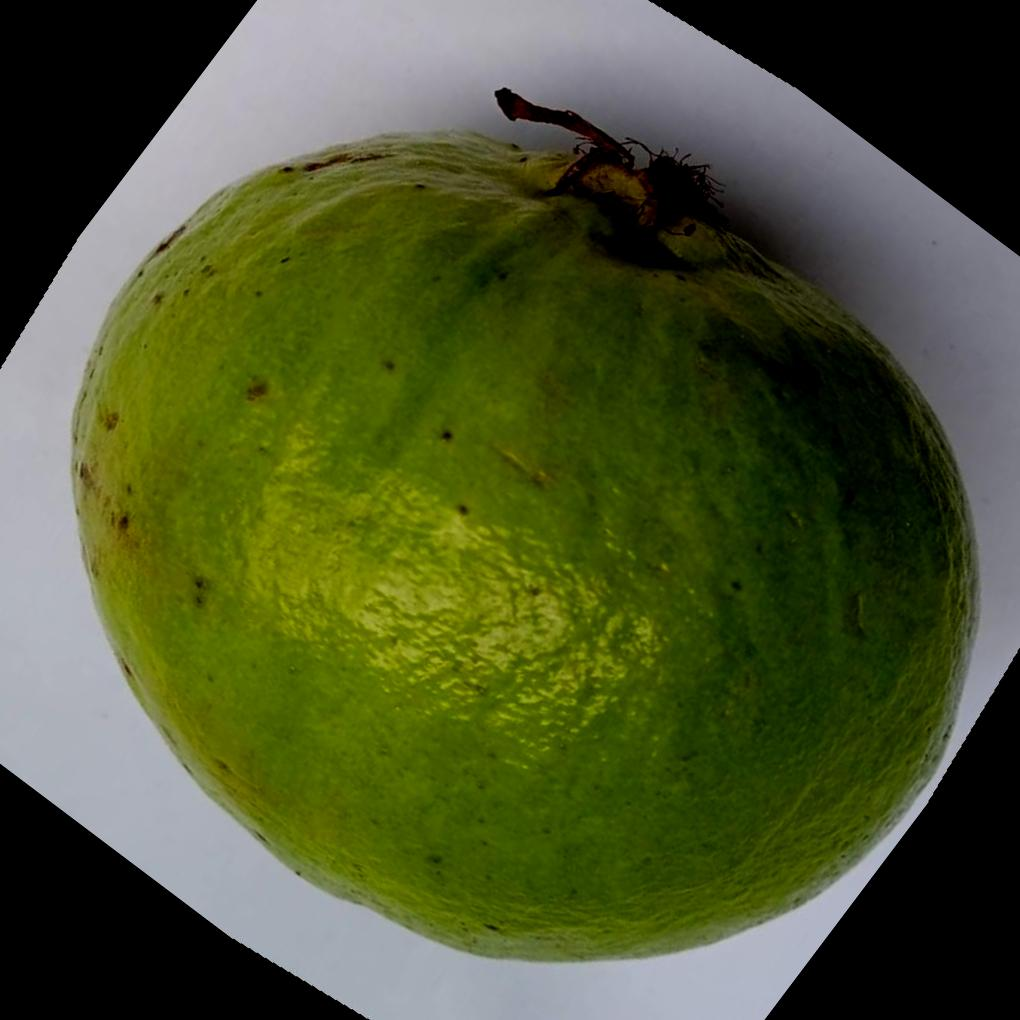FreshGuava: (70, 88, 984, 962)
